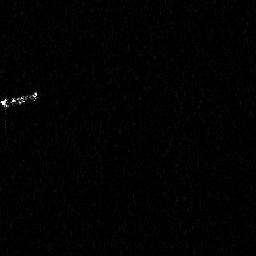ship: (1, 87, 41, 111)
